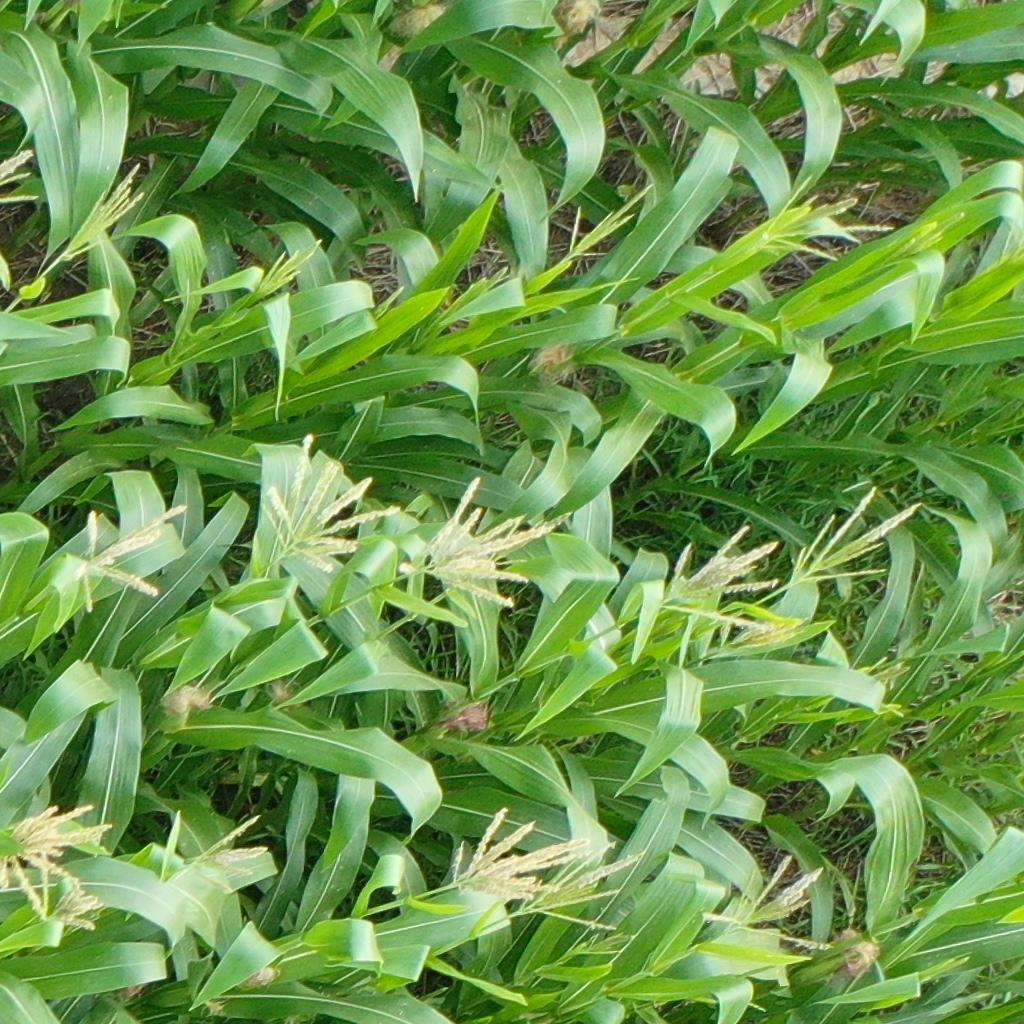Tassel: (416, 472, 571, 611), (261, 432, 402, 573), (1, 802, 116, 919), (658, 523, 783, 629), (452, 807, 591, 902), (703, 851, 835, 950), (790, 487, 922, 585), (752, 176, 894, 265), (78, 504, 187, 615), (521, 841, 651, 934), (63, 163, 147, 261), (178, 811, 273, 897), (563, 181, 656, 263), (256, 237, 321, 297), (895, 210, 966, 264), (446, 262, 509, 322), (44, 871, 104, 933), (731, 616, 801, 654), (1, 150, 41, 204), (863, 653, 909, 686), (1001, 205, 1024, 264), (580, 933, 630, 959)
